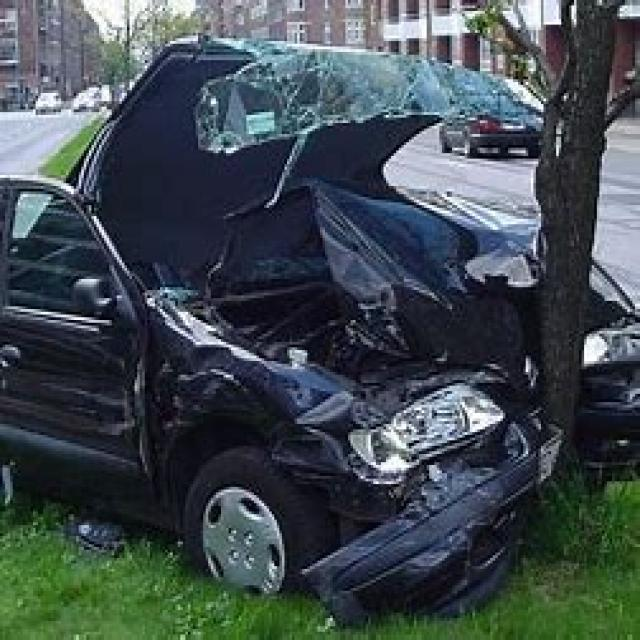Accident: (75, 46, 639, 561)
